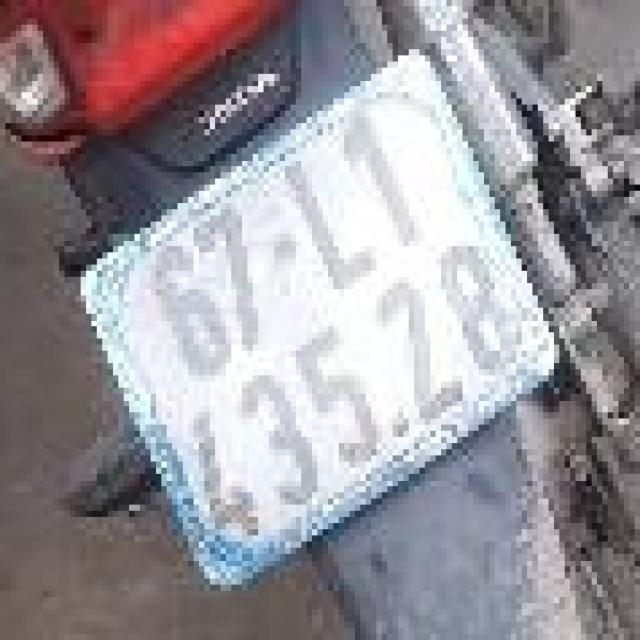1: (325, 93, 440, 270)
2: (359, 261, 478, 444)
3: (225, 358, 334, 520)
4: (167, 393, 271, 558)
5: (283, 312, 394, 483)
6: (139, 228, 242, 392)
7: (183, 196, 286, 366)
8: (426, 214, 549, 397)
L: (271, 131, 393, 310)
